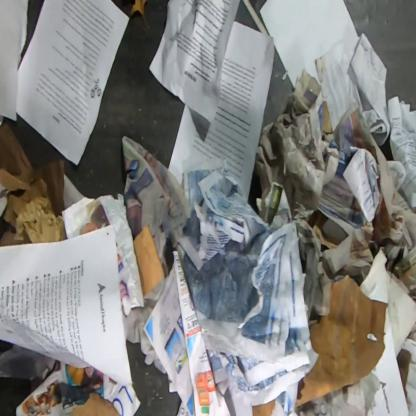cardboard: (0, 120, 66, 248), (133, 223, 166, 300), (67, 392, 122, 415), (320, 100, 333, 141)
rigid_plastic: (393, 236, 415, 297)
soft_plastic: (0, 343, 57, 382)
